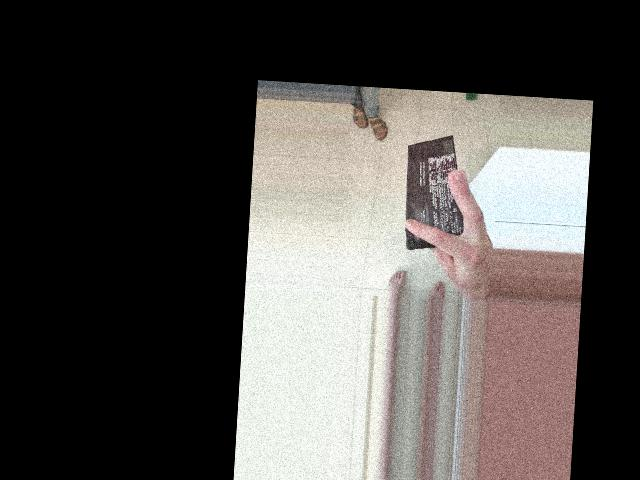chocolate: (330, 148, 468, 229)
